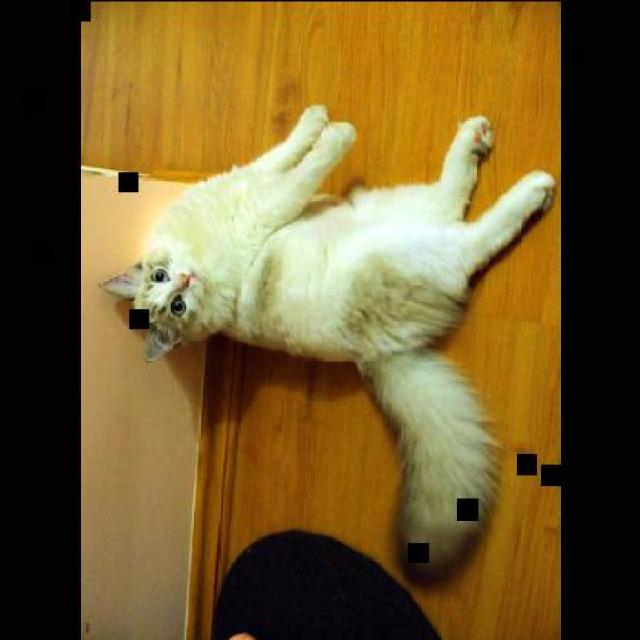unauthorized: (99, 103, 556, 582)
